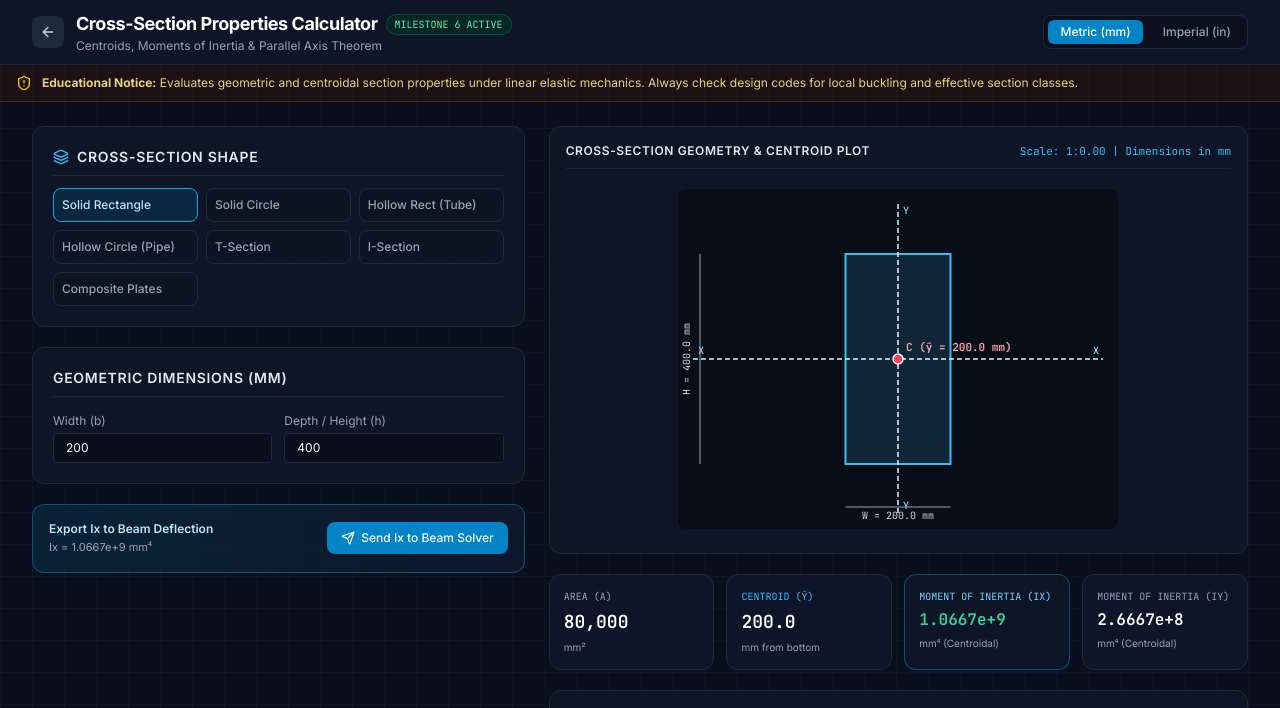
Scenario: SectionWorkspace Component (Milestone 6) › switches between shapes: Circle, T-Section, and Hollow Rect
This screenshot has width=1280, height=708.
Click Solid Circle
Click the button "Solid Circle" at [278, 205], box [206,188,351,222]
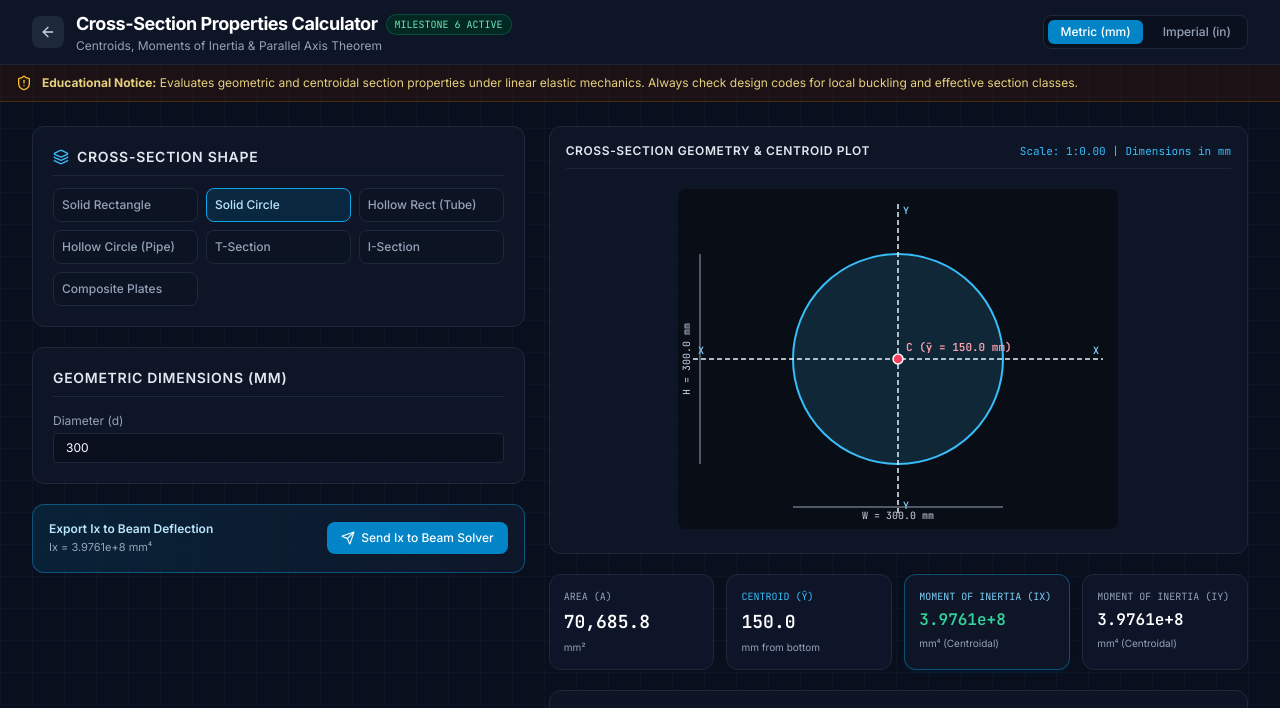
expect the text "Diameter (d)" is shown: met, box [53,413,124,428]
expect the text "70,685.8" is shown: met, box [564,610,650,632]
Click T-Section
Click the button "T-Section" at [278, 247], box [206,230,351,264]
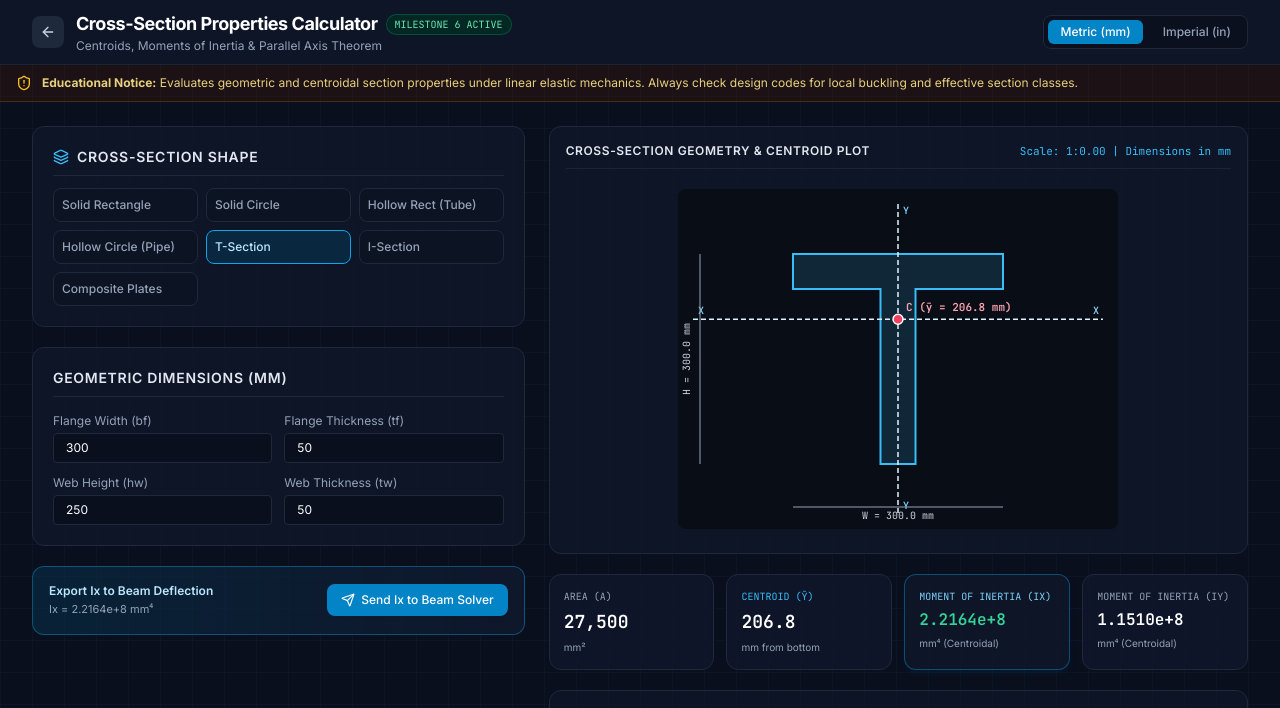
expect the text "Flange Width (bf)" is shown: met, box [53,413,152,428]
expect the text "206.8" is shown: met, box [742,610,796,632]
